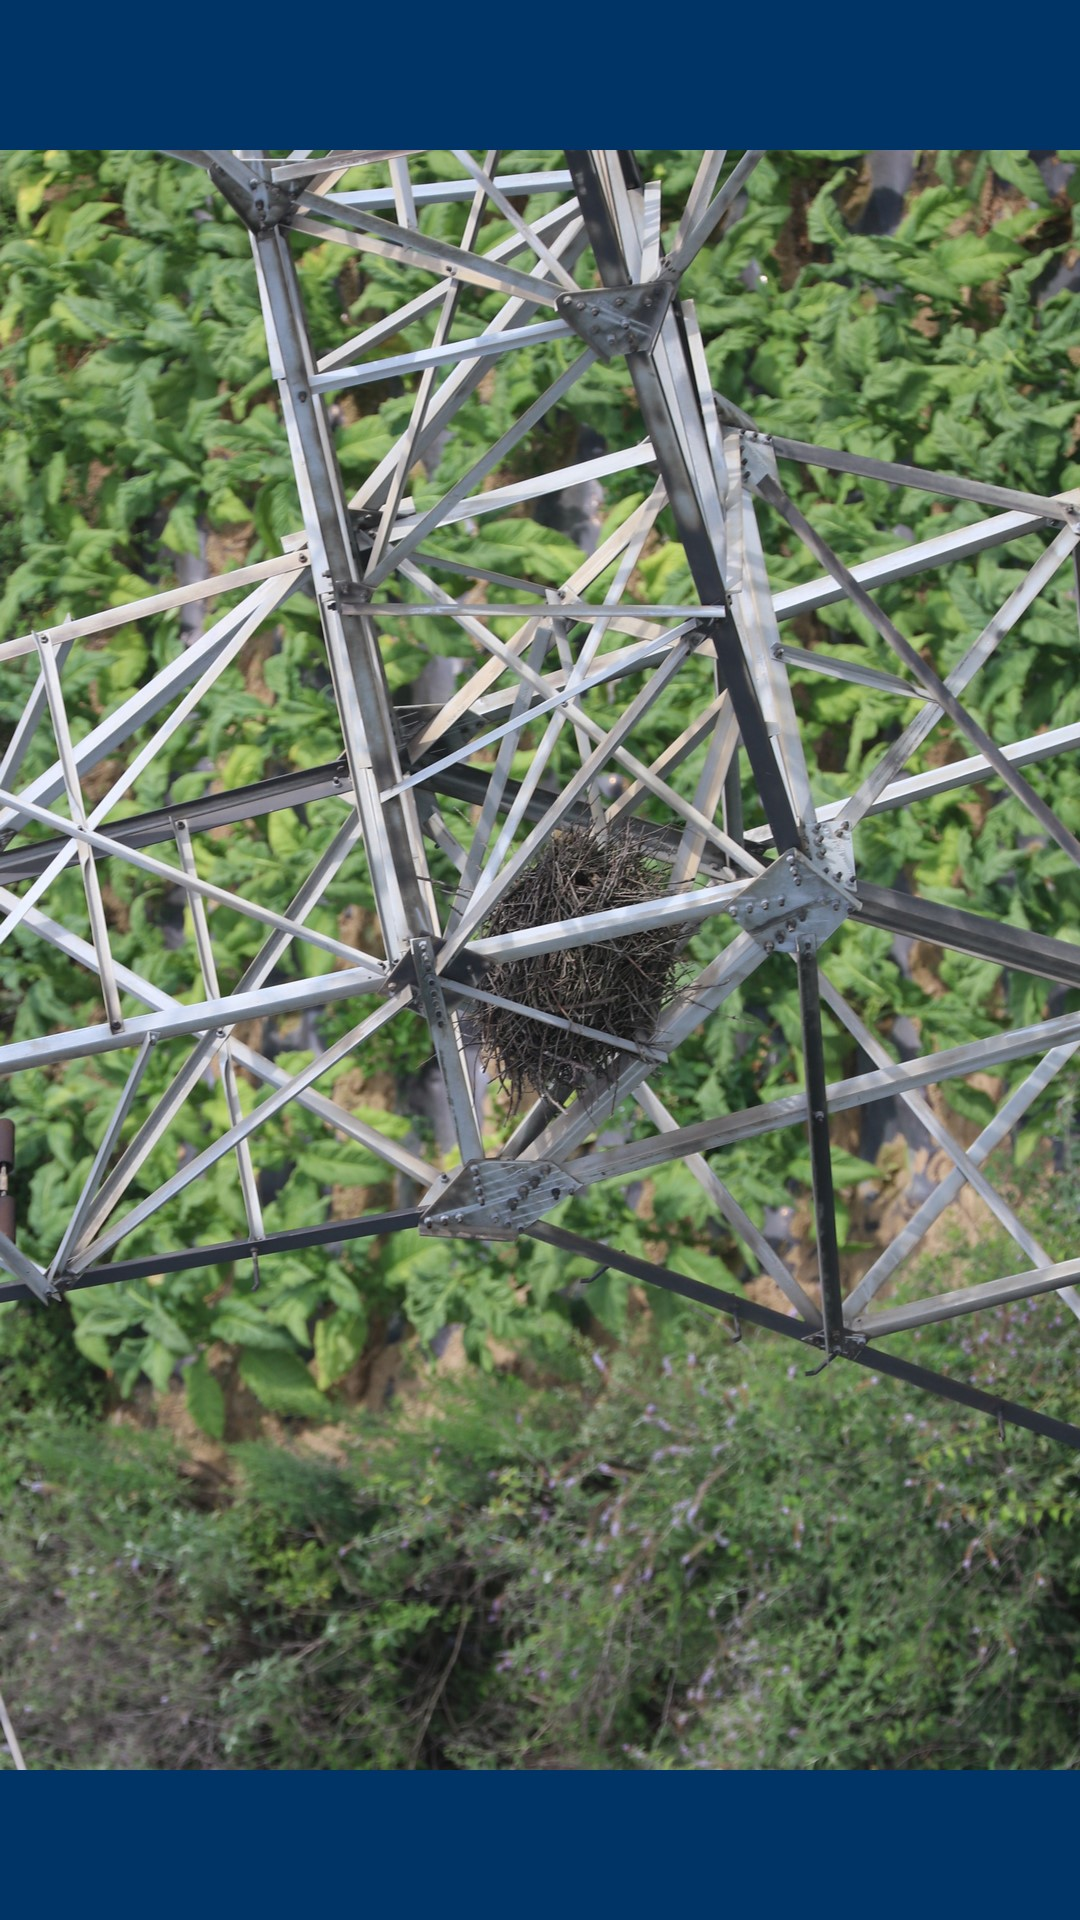niaowo: (411, 825, 727, 1102)
